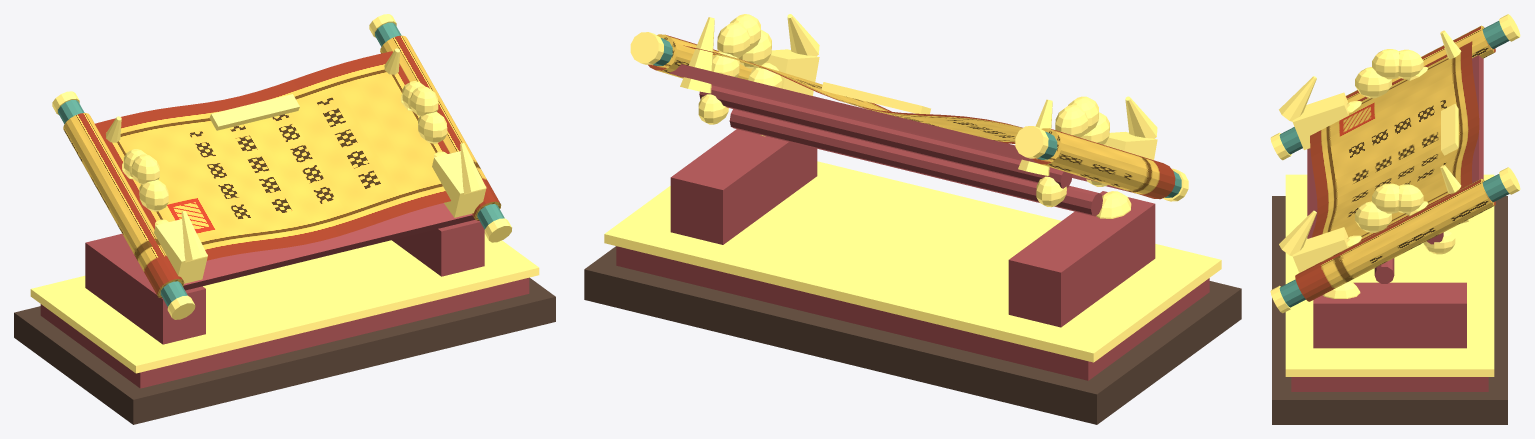
Rendered from chieu_thu_nam_quoc.glb.
3 renders of one model, left to right at view 1: azimuth 30°, elevation 25°; view 2: azimuth 150°, elevation 25°; view 3: azimuth 270°, elevation 25°, orthographic. The views are drawn at different scales.
Parts seen in each view (by area): view 1: Chieu_Thu_Nam_Quoc; view 2: Chieu_Thu_Nam_Quoc; view 3: Chieu_Thu_Nam_Quoc.
Boxes of the visible parts, x1,y1,x2,y2 form: Chieu_Thu_Nam_Quoc: (14, 14, 555, 424); Chieu_Thu_Nam_Quoc: (584, 14, 1241, 424); Chieu_Thu_Nam_Quoc: (1270, 14, 1520, 424).
Bounding box in the file's own units: 1.76 × 0.9289 × 0.9112.
6 materials, 1 textured.
